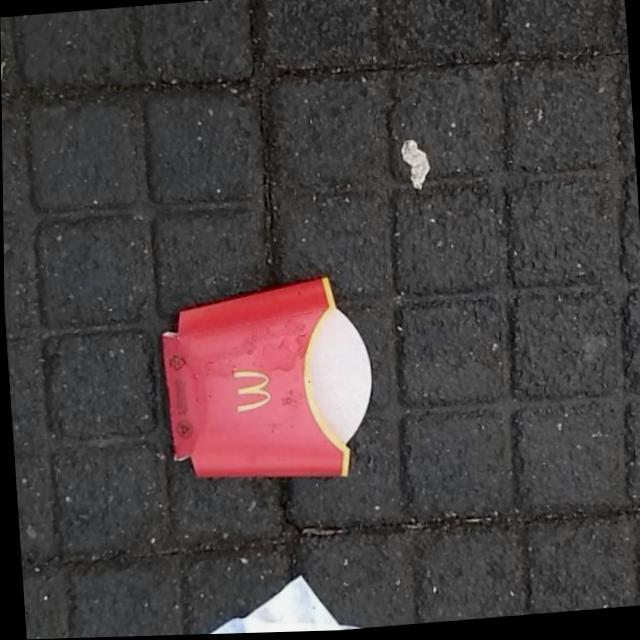Paper: (154, 271, 378, 493)
